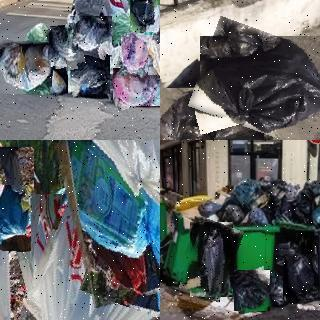Garbage: (7, 184, 160, 320), (62, 140, 160, 303), (194, 26, 320, 140), (0, 142, 51, 320), (160, 81, 273, 140), (184, 220, 239, 300), (0, 41, 52, 94), (0, 184, 32, 251), (111, 65, 160, 108), (68, 13, 114, 58), (66, 53, 112, 96), (232, 268, 272, 313), (284, 254, 318, 301), (47, 24, 83, 68), (118, 33, 153, 75), (23, 19, 58, 60), (128, 0, 159, 33), (148, 35, 160, 76), (313, 181, 320, 227)
